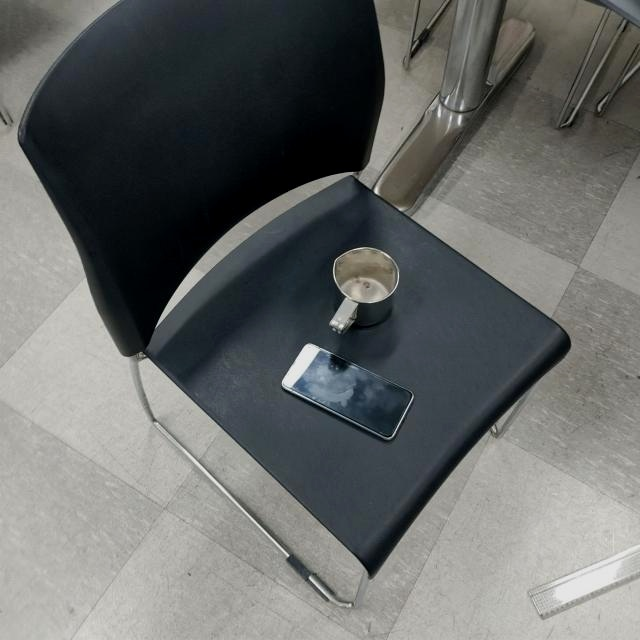cup: (327, 242, 400, 340)
phone: (281, 342, 415, 445)
